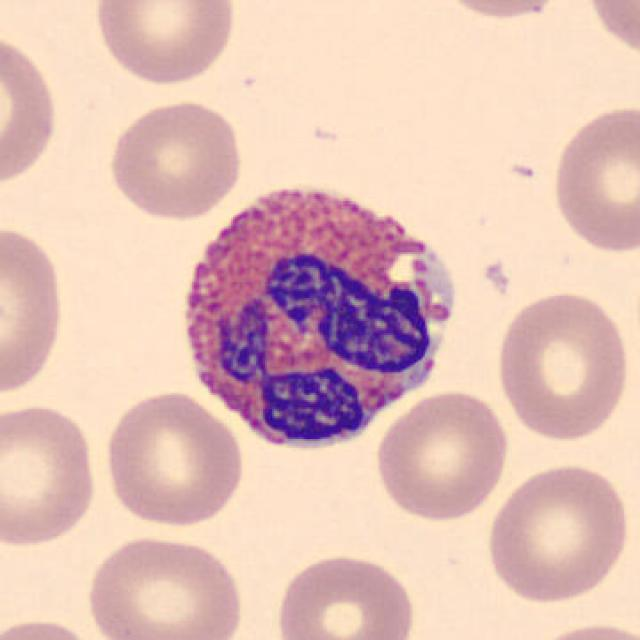Eosinophil: (162, 164, 471, 467)
RBC: (482, 458, 633, 606), (491, 288, 633, 444), (100, 388, 247, 531), (372, 388, 512, 524), (80, 530, 249, 640), (103, 95, 247, 222), (0, 400, 101, 550), (548, 99, 638, 257), (272, 548, 420, 640), (90, 0, 240, 86), (0, 218, 69, 402), (0, 26, 62, 194), (581, 0, 638, 63), (427, 0, 576, 21), (0, 613, 110, 640), (521, 619, 638, 640)
